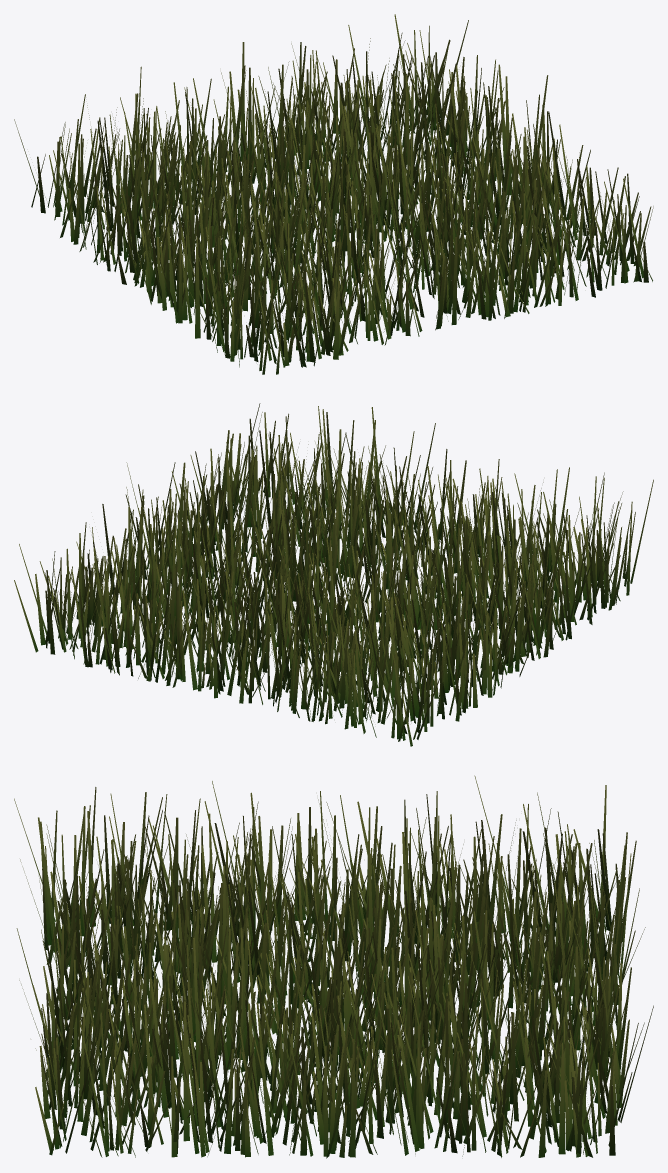
Rendered from Turf_Wild_v2.glb.
3 views of the same model, one above another, from view 1: azimuth 30°, elevation 25°; view 2: azimuth 150°, elevation 25°; view 3: azimuth 270°, elevation 25° (orthographic). The views are drawn at different scales.
Parts seen in each view (by area): view 1: Turf_Wild_v2; view 2: Turf_Wild_v2; view 3: Turf_Wild_v2.
Part boxes in pixels (bbox=[...]): Turf_Wild_v2: bbox=[14, 14, 653, 374]; Turf_Wild_v2: bbox=[14, 403, 653, 746]; Turf_Wild_v2: bbox=[14, 775, 653, 1158].
Size of the model in its own units: 1.59 by 0.3908 by 1.6.
